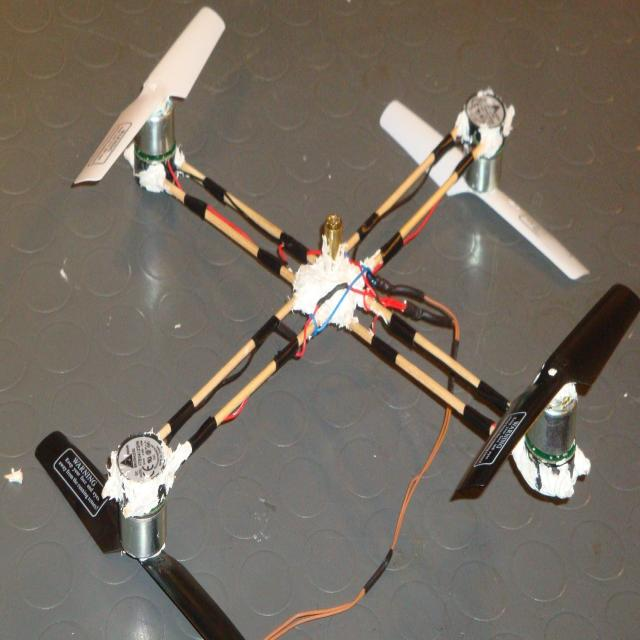drone: (54, 53, 640, 640)
